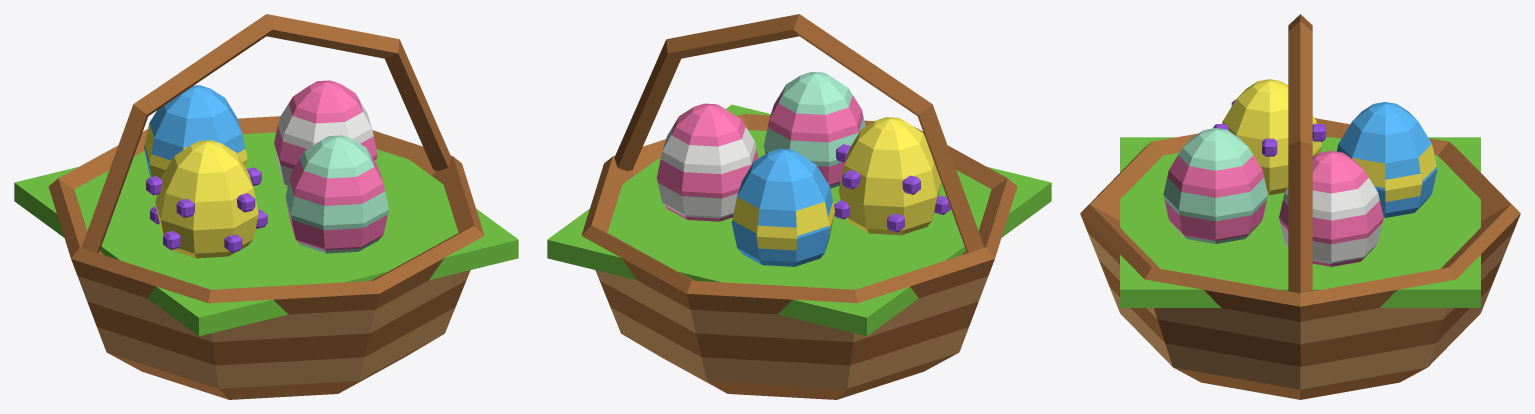
The model's file is EggBasket.fbx.
The picture shows the model from 3 angles, left to right: view 1: azimuth 30°, elevation 25°; view 2: azimuth 150°, elevation 25°; view 3: azimuth 270°, elevation 25°; orthographic projection. The views are drawn at different scales.
Parts seen in each view (by area): view 1: EggBasket; view 2: EggBasket; view 3: EggBasket.
Boxes of the visible parts, box(x1,y1,x2,y2) form: EggBasket: box(14, 14, 518, 399); EggBasket: box(547, 14, 1051, 399); EggBasket: box(1080, 14, 1520, 399).
Size of the model in its own units: 4.4 by 3.52 by 4.4.
Materials: 1 (1 with a texture image).
